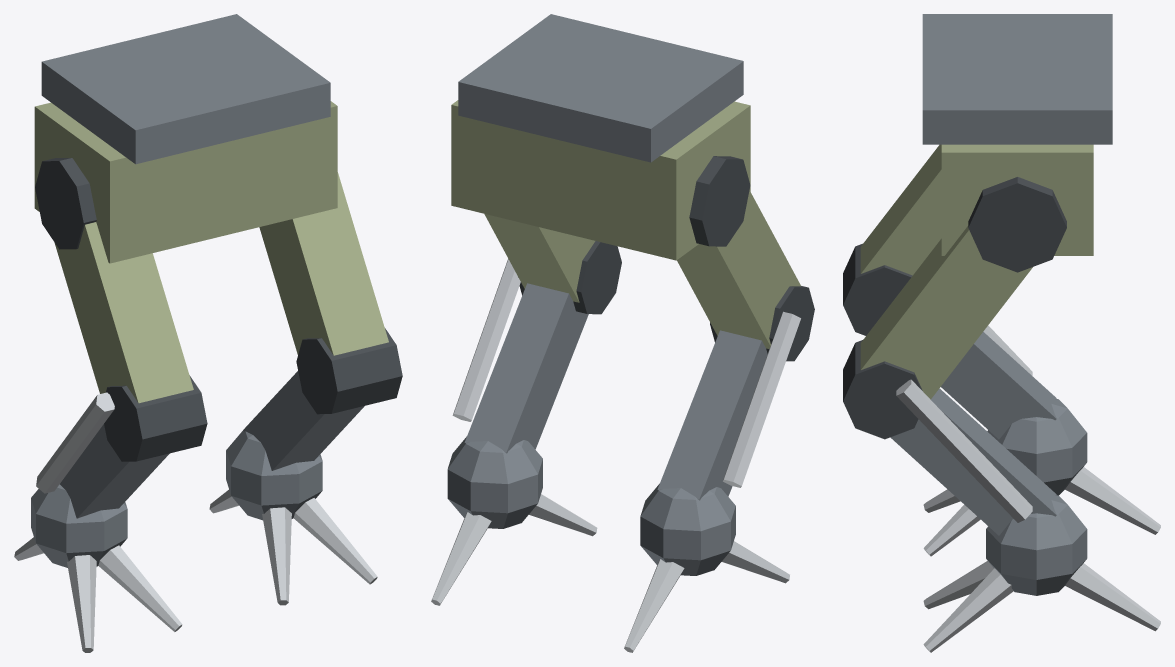
The model's file is mech-hangar-and-battle-frames-scout-legs-claw-feet-4455b04f__26817.glb.
3 views of the same model, side by side, from view 1: azimuth 30°, elevation 25°; view 2: azimuth 150°, elevation 25°; view 3: azimuth 270°, elevation 25° (orthographic). The views are drawn at different scales.
Parts seen in each view (by area): view 1: scout-legs-claw-feet; view 2: scout-legs-claw-feet; view 3: scout-legs-claw-feet.
Part boxes in pixels (bbox=[...]): scout-legs-claw-feet: bbox=[14, 14, 402, 652]; scout-legs-claw-feet: bbox=[431, 14, 814, 652]; scout-legs-claw-feet: bbox=[843, 14, 1160, 652].
Bounding box in the file's own units: 0.9054 × 1.51 × 0.8374.
